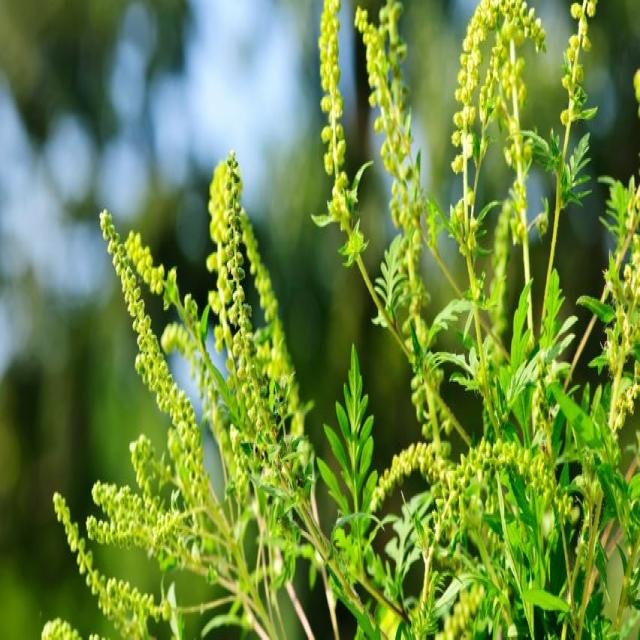ambrosia: (90, 152, 303, 566), (306, 0, 436, 334), (352, 409, 590, 570), (446, 0, 604, 216)
